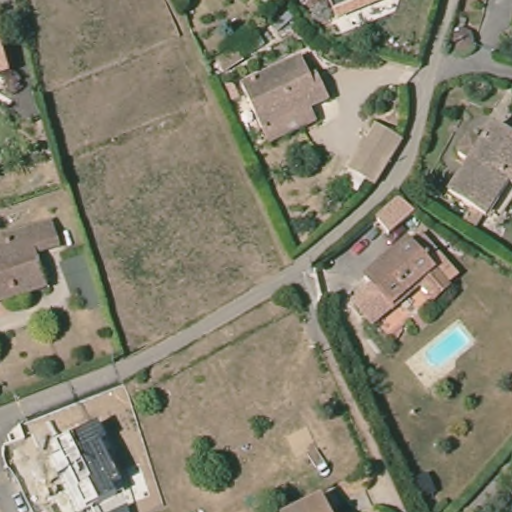pool: (421, 323, 475, 370)
